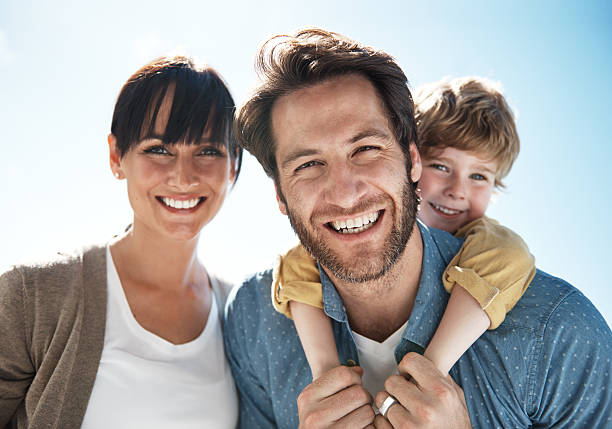without mask: (242, 46, 421, 285), (104, 70, 240, 247), (412, 103, 510, 237)
